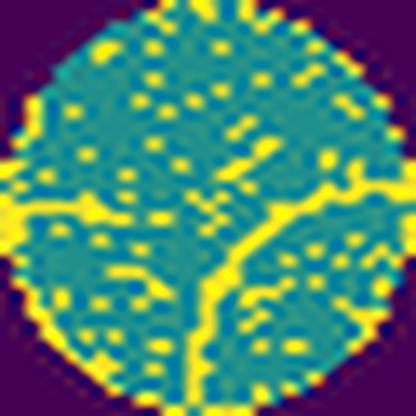Scratch: (185, 164, 416, 412), (0, 184, 141, 260)
